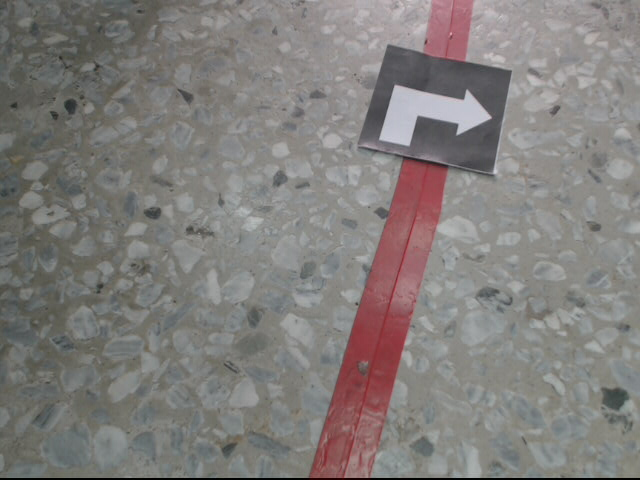right: (357, 42, 513, 178)
